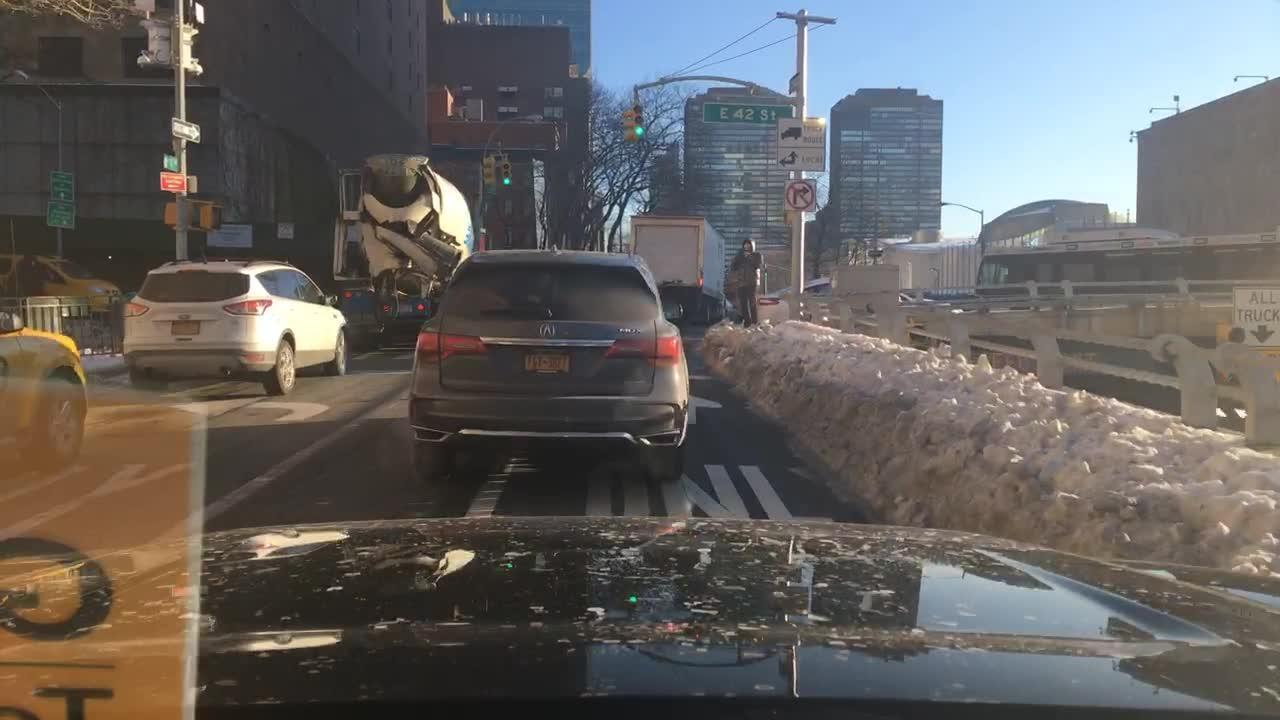acura: (536, 319, 559, 342)
